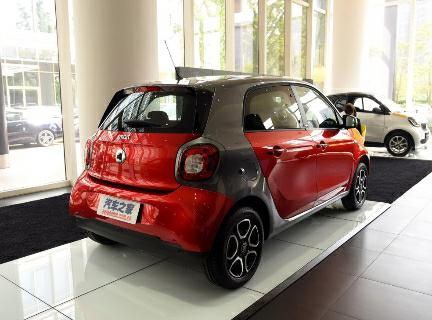smart-forfour: (75, 66, 369, 282)
